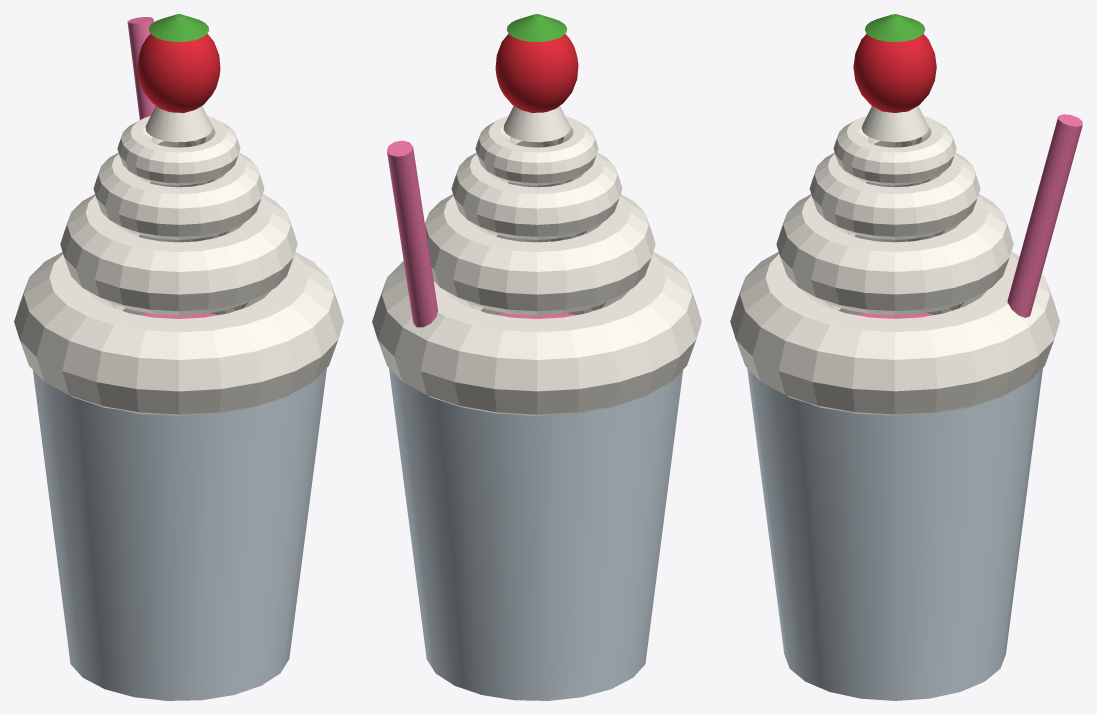
File: Cafe_L7.fbx
The picture shows the model from 3 angles, left to right: view 1: azimuth 30°, elevation 25°; view 2: azimuth 150°, elevation 25°; view 3: azimuth 270°, elevation 25°; orthographic projection.
Visible parts, largest first — view 1: C7_Cup, C7_Cream_1, C7_Cream_2, C7_Cream_3, C7_Cream_4, C7_Berry, C7_Cream_Tip, C7_Leaf, C7_Straw; view 2: C7_Cup, C7_Cream_1, C7_Cream_2, C7_Cream_3, C7_Cream_4, C7_Berry, C7_Straw, C7_Cream_Tip, C7_Leaf; view 3: C7_Cup, C7_Cream_1, C7_Cream_2, C7_Cream_3, C7_Cream_4, C7_Straw, C7_Berry, C7_Cream_Tip, C7_Leaf.
Boxes of the visible parts, bbox=[...] form: C7_Cup: bbox=[33, 368, 326, 700]; C7_Cream_1: bbox=[14, 252, 343, 416]; C7_Cream_2: bbox=[60, 194, 297, 315]; C7_Cream_3: bbox=[93, 152, 264, 239]; C7_Cream_4: bbox=[117, 116, 240, 185]; C7_Berry: bbox=[137, 34, 220, 113]; C7_Cream_Tip: bbox=[145, 106, 212, 142]; C7_Leaf: bbox=[149, 14, 208, 41]; C7_Straw: bbox=[127, 17, 155, 119]; C7_Cup: bbox=[389, 368, 682, 700]; C7_Cream_1: bbox=[372, 252, 701, 416]; C7_Cream_2: bbox=[425, 194, 655, 315]; C7_Cream_3: bbox=[451, 152, 622, 239]; C7_Cream_4: bbox=[475, 116, 598, 185]; C7_Berry: bbox=[495, 34, 578, 113]; C7_Straw: bbox=[387, 140, 437, 327]; C7_Cream_Tip: bbox=[503, 106, 570, 142]; C7_Leaf: bbox=[507, 14, 566, 41]; C7_Cup: bbox=[747, 368, 1042, 700]; C7_Cream_1: bbox=[730, 252, 1059, 415]; C7_Cream_2: bbox=[776, 194, 1013, 315]; C7_Cream_3: bbox=[809, 152, 980, 239]; C7_Cream_4: bbox=[833, 115, 956, 185]; C7_Straw: bbox=[1007, 114, 1082, 317]; C7_Berry: bbox=[853, 34, 936, 112]; C7_Cream_Tip: bbox=[861, 106, 928, 142]; C7_Leaf: bbox=[865, 14, 925, 41].
Bounding box in the file's own units: 17.4 × 37.17 × 18.6.
